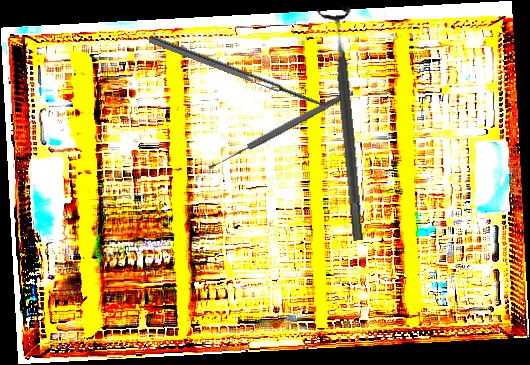Fixation Ring: (314, 5, 378, 243)
Spatula Surgical: (148, 28, 335, 112)
Surgical Spoon: (206, 93, 344, 172)
